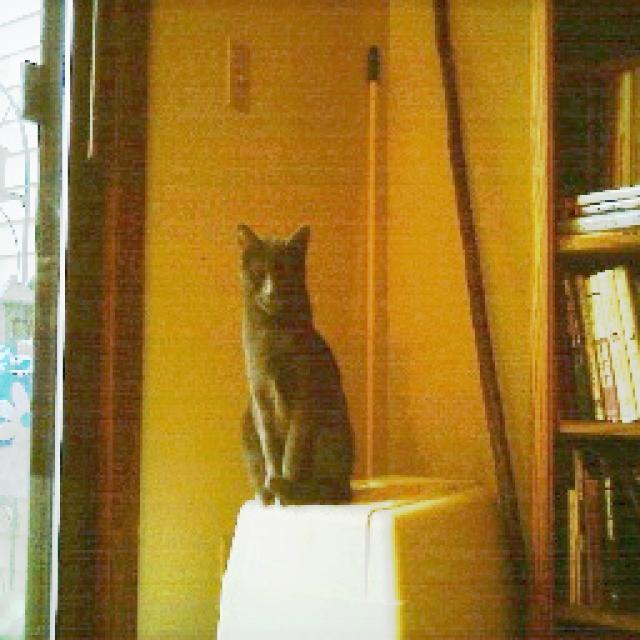cat: (196, 194, 366, 531)
